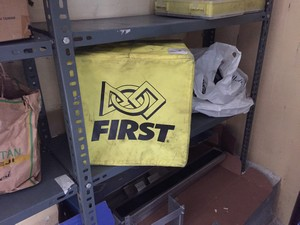cube: (67, 41, 192, 168)
